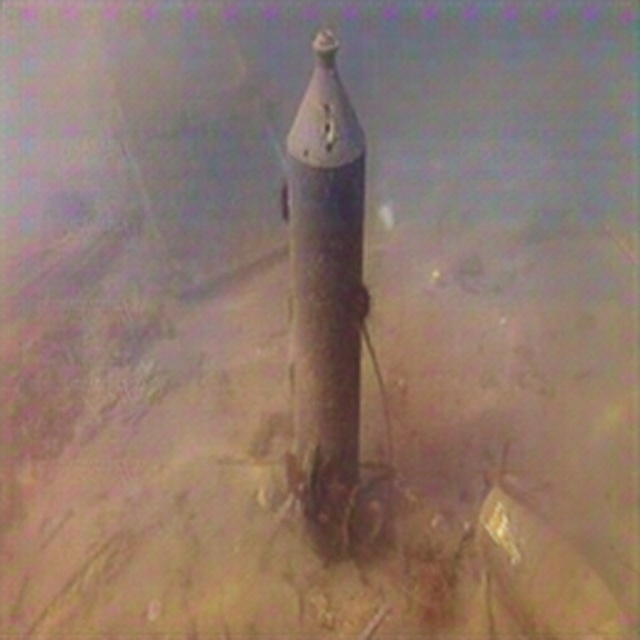mine: (85, 8, 286, 287), (285, 27, 366, 512)
